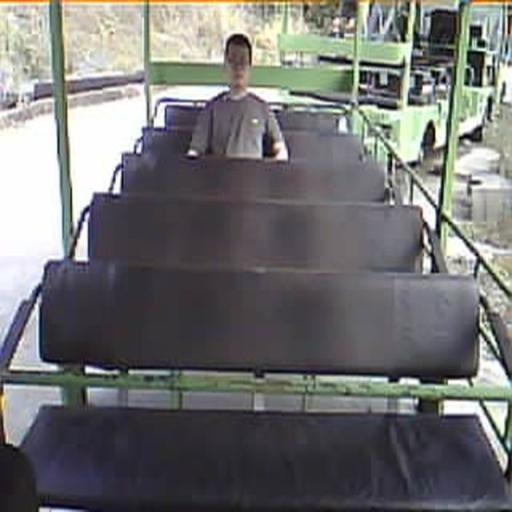persona: (186, 32, 290, 162)
